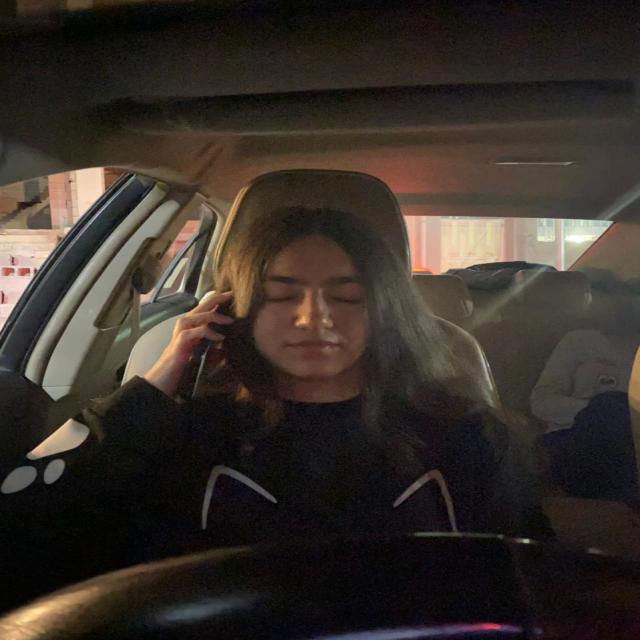phone: (180, 287, 236, 396)
